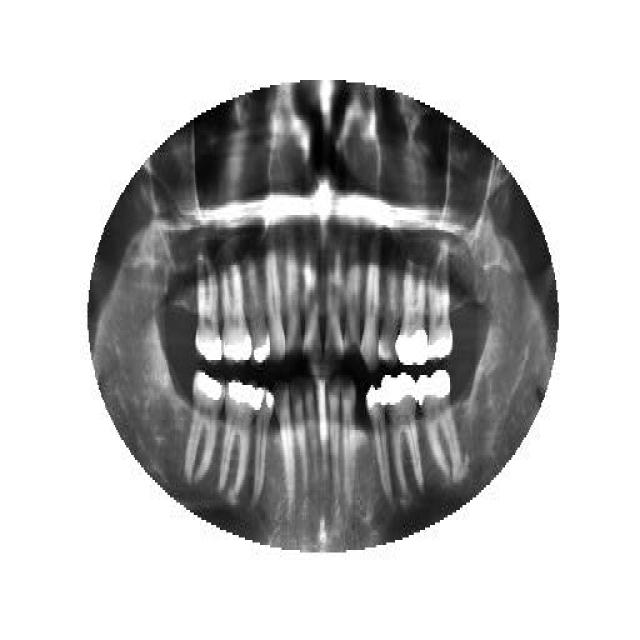Fillings: (385, 372, 424, 500), (218, 380, 258, 498), (185, 370, 225, 480), (418, 370, 460, 472), (397, 255, 428, 365), (251, 385, 275, 507), (194, 255, 221, 363), (366, 385, 392, 497), (221, 265, 251, 360), (428, 252, 453, 360), (250, 260, 270, 368)
